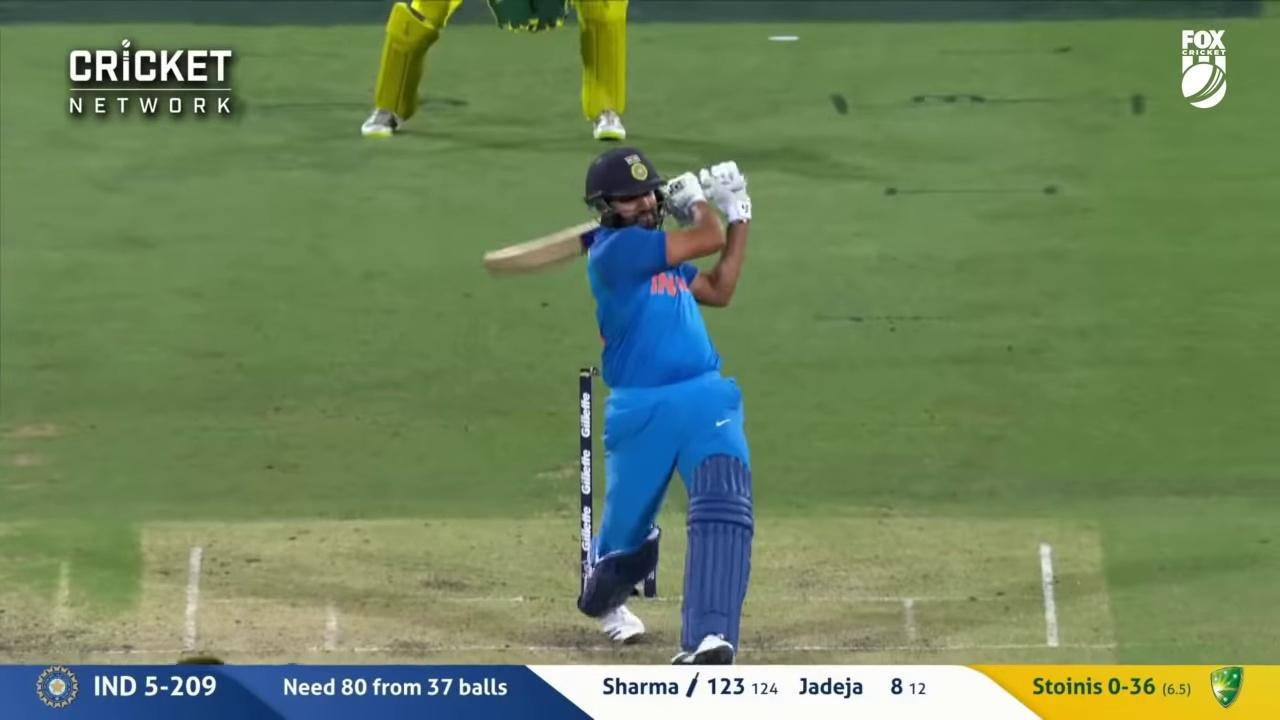batsman: (477, 146, 756, 662)
